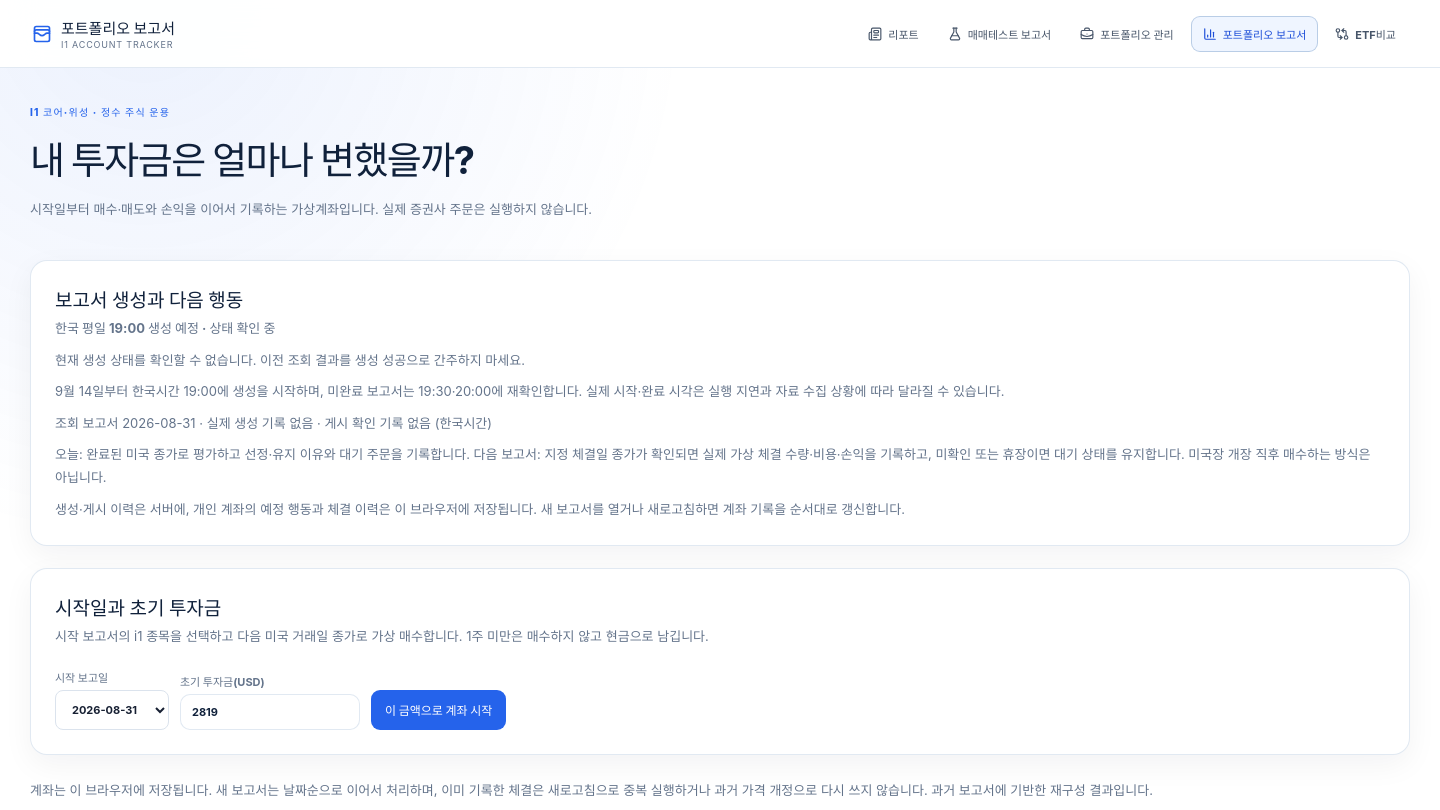
Test: does not save a partially updated account when a required report fails
The image size is (1440, 810).
Click the button "이 금액으로 계좌 시작" at (439, 710), box top-left (371, 690), bottom-right (506, 730)
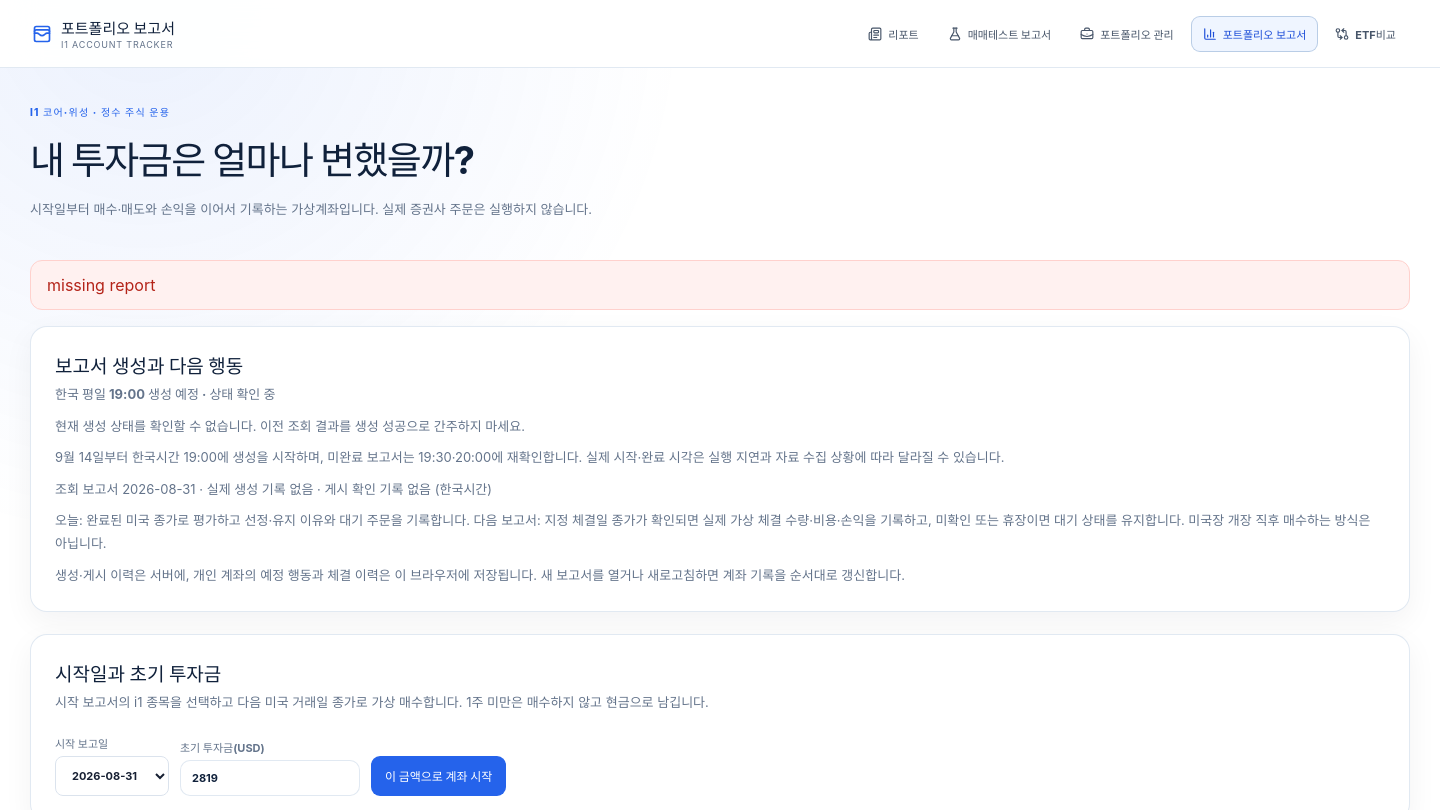
Now the message "missing report" is shown, box top-left (30, 260), bottom-right (1410, 310)
